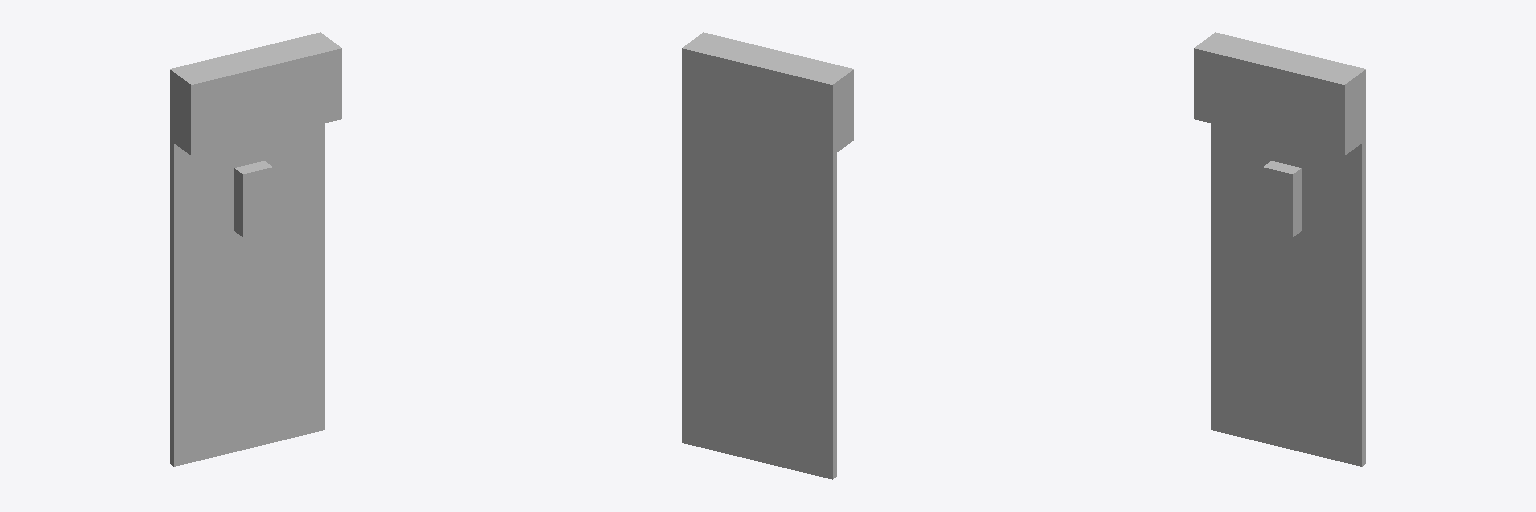
File: wall.obj
3 renders of one model, left to right at view 1: azimuth 30°, elevation 25°; view 2: azimuth 150°, elevation 25°; view 3: azimuth 330°, elevation 25°, orthographic.
Bounding box in the file's own units: 20 × 50 × 5.